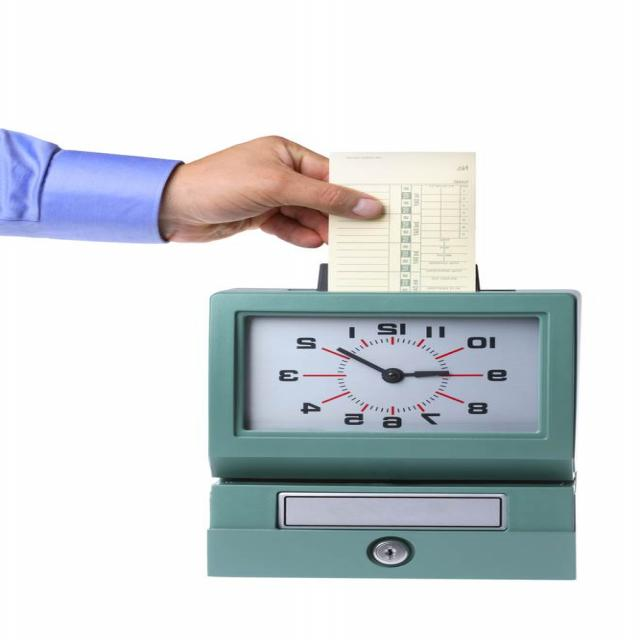clock: (173, 141, 592, 540)
